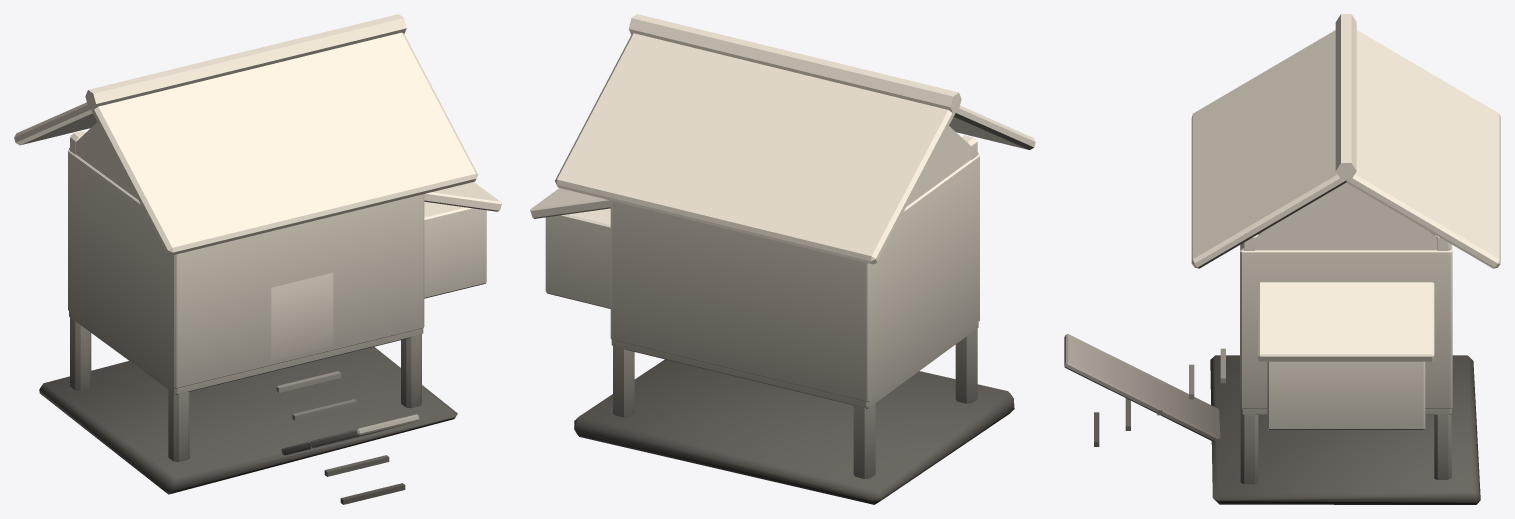
File: SM_VK_Prop_ChickenCoop.fbx
3 renders of one model, left to right at view 1: azimuth 30°, elevation 25°; view 2: azimuth 150°, elevation 25°; view 3: azimuth 270°, elevation 25°, orthographic. The views are drawn at different scales.
Visible parts, largest first — view 1: SM_VK_Prop_ChickenCoop.001; view 2: SM_VK_Prop_ChickenCoop.001; view 3: SM_VK_Prop_ChickenCoop.001.
Part boxes in pixels (box(x1,y1,x2,y2)): SM_VK_Prop_ChickenCoop.001: box(14, 14, 501, 504); SM_VK_Prop_ChickenCoop.001: box(530, 14, 1035, 504); SM_VK_Prop_ChickenCoop.001: box(1064, 14, 1500, 504).
Bounding box in the file's own units: 2.37 × 2.21 × 2.48.
